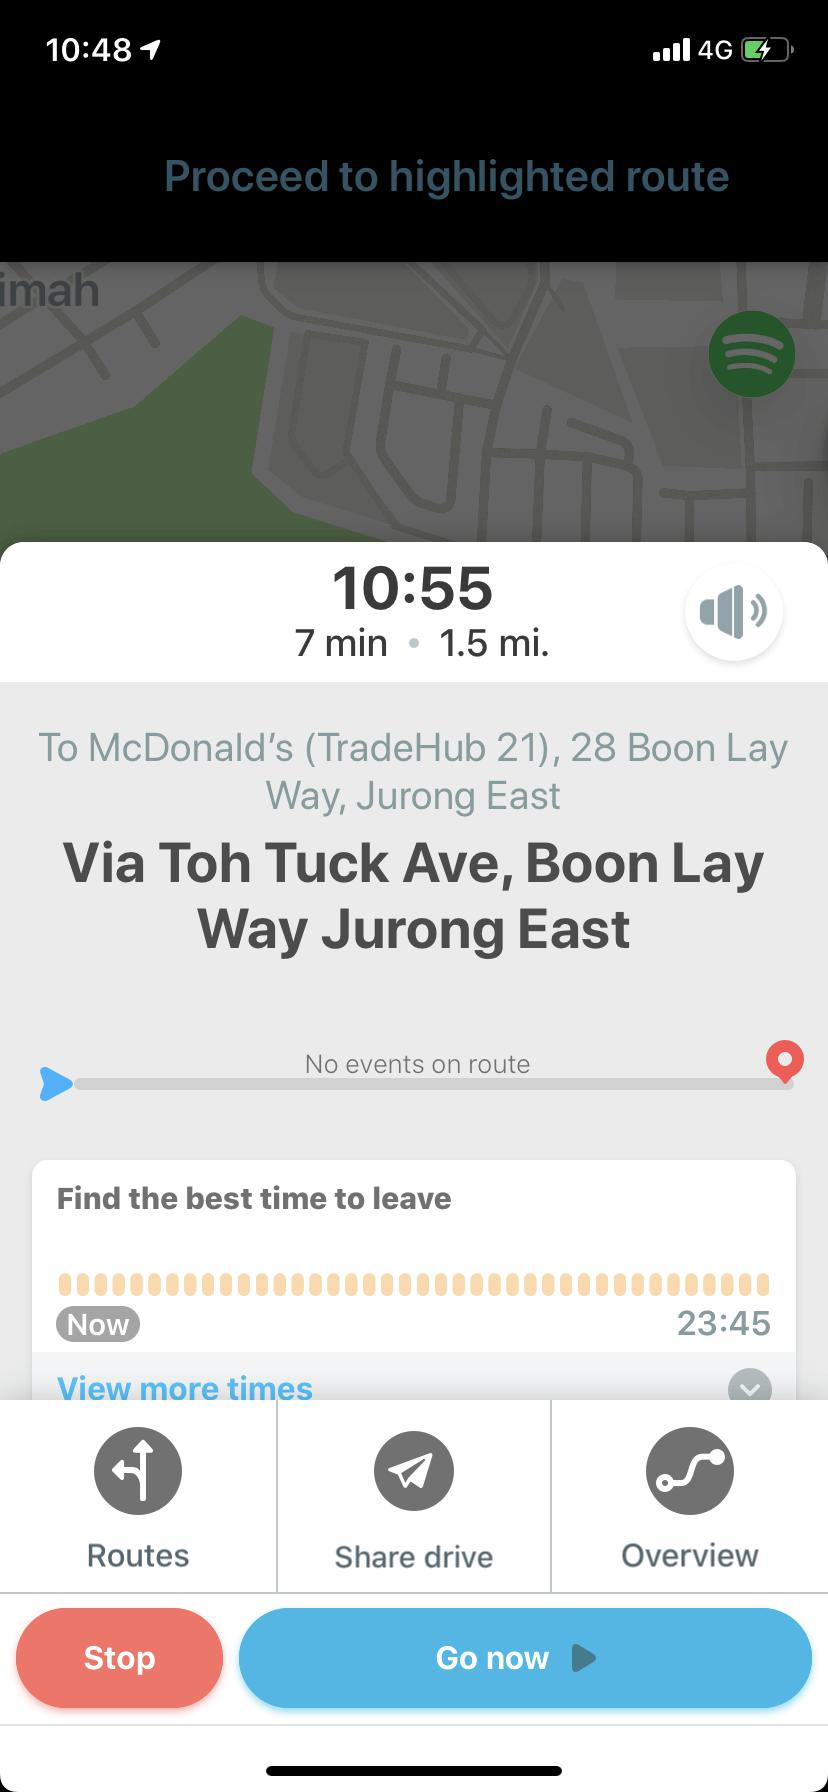Buttons: (234, 1602, 817, 1725), (9, 1603, 229, 1719), (675, 553, 795, 672)
Sliders: (17, 1011, 813, 1119)
